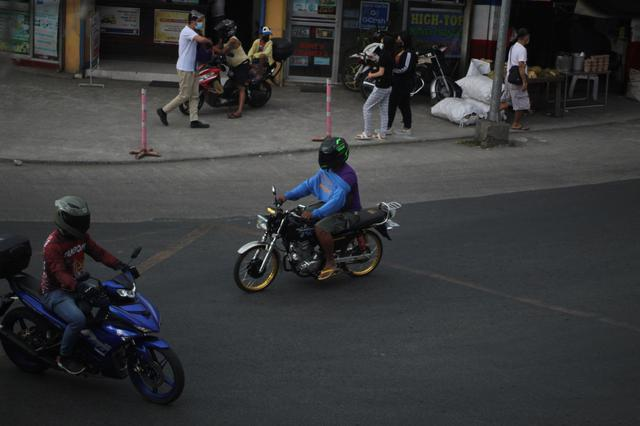helmet: (53, 195, 90, 242), (317, 137, 350, 172)
motorcycle: (0, 195, 189, 405), (230, 136, 395, 294)
